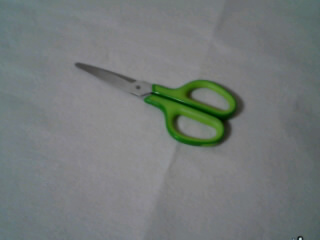003_classes: (70, 54, 242, 154)
